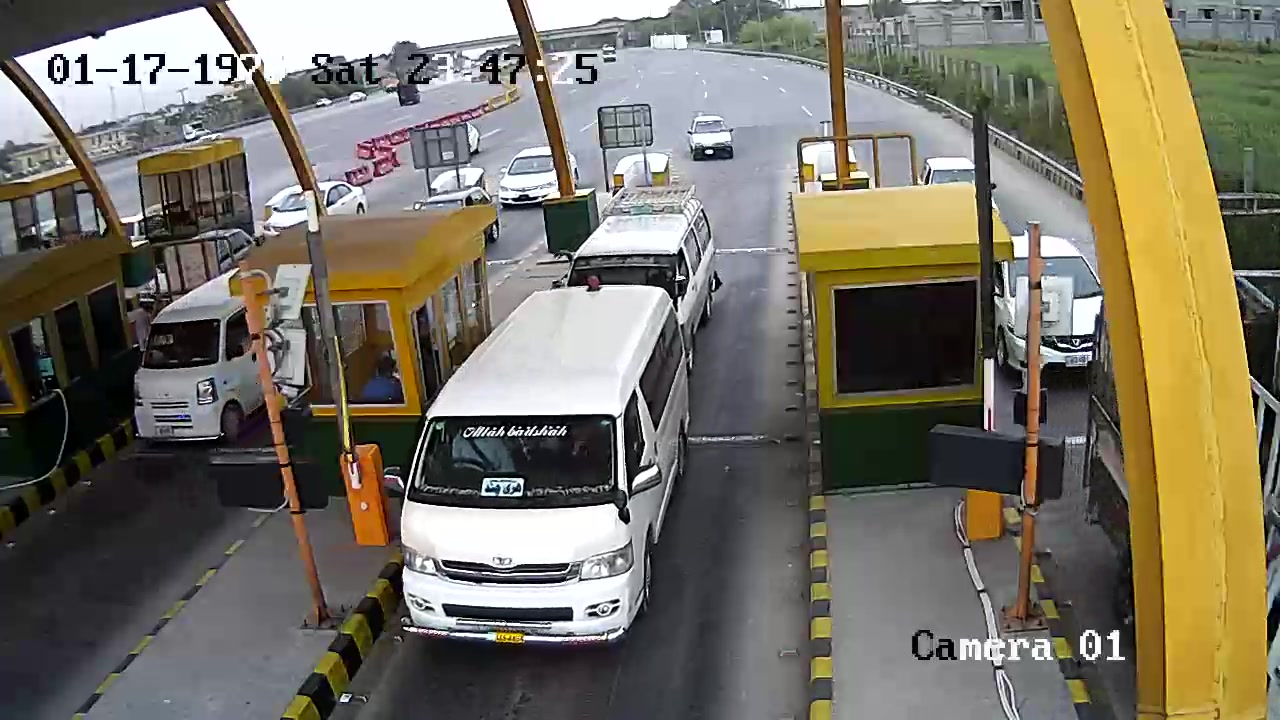F2: (394, 277, 700, 659)
